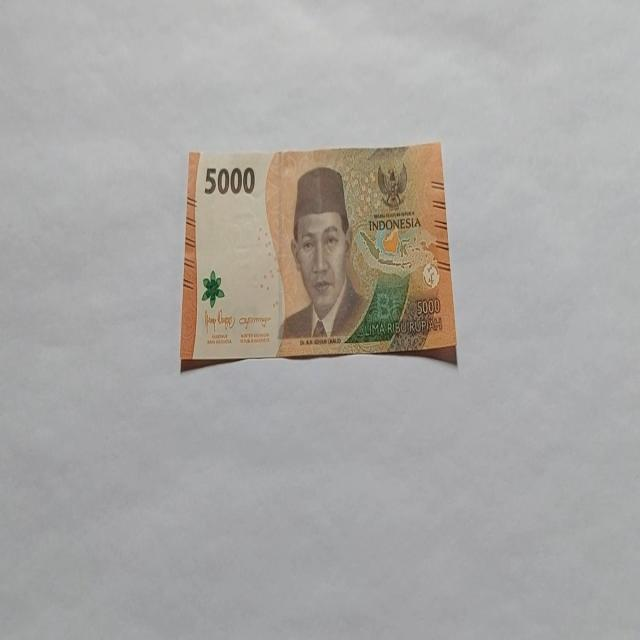lima ribu rupiah: (179, 142, 458, 372), (278, 165, 368, 342)
